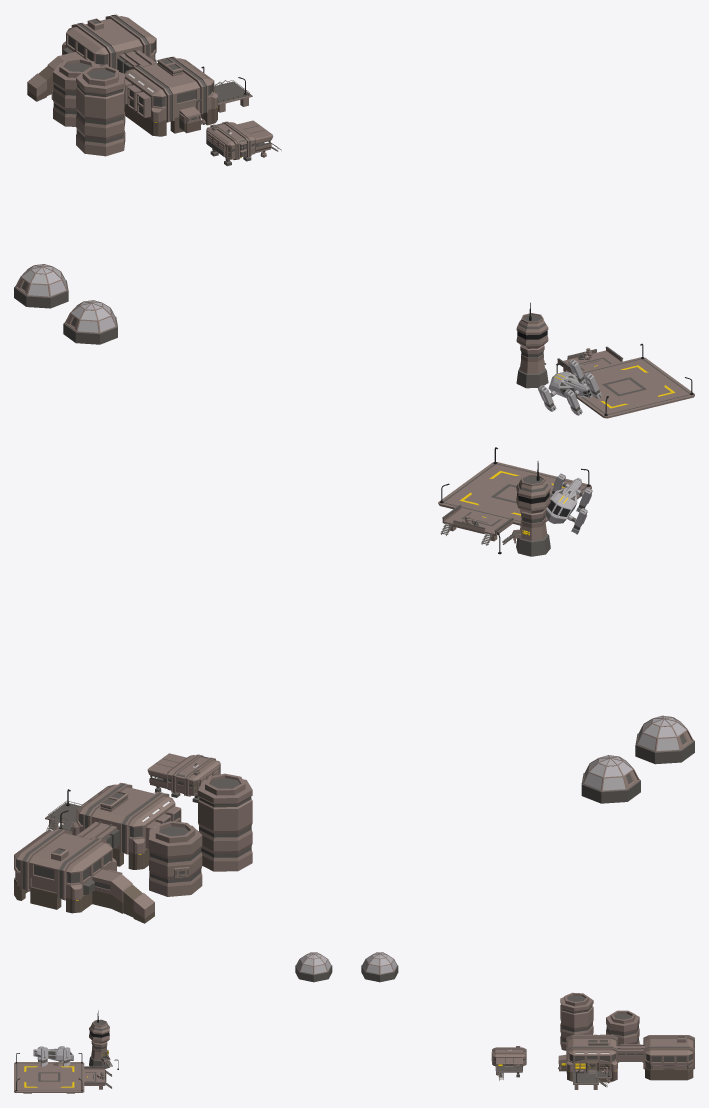
Rendered from scifi_buildings.gltf.
3 renders of one model, top to bottom at view 1: azimuth 30°, elevation 25°; view 2: azimuth 150°, elevation 25°; view 3: azimuth 270°, elevation 25°, orthographic. The views are drawn at different scales.
Parts seen in each view (by area): view 1: Building_Lab, LZ, Silo_Tall_Lab, Building_Dorm, Tower_LZ, Dome_1, Dome_2, Pod_LZ, Silo_Small_Lab; view 2: Building_Lab, Silo_Tall_Lab, LZ, Silo_Small_Lab, Tower_LZ, Dome_1, Dome_2, Building_Dorm, Pod_LZ; view 3: Building_Lab, LZ, Silo_Tall_Lab, Silo_Small_Lab, Dome_2, Dome_1, Tower_LZ, Building_Dorm, Pod_LZ.
Boxes of the visible parts, x1=… form: Building_Lab: x1=27, y1=14, x2=252, y2=136; LZ: x1=557, y1=346, x2=694, y2=418; Silo_Tall_Lab: x1=76, y1=66, x2=125, y2=156; Building_Dorm: x1=206, y1=120, x2=273, y2=166; Tower_LZ: x1=516, y1=302, x2=548, y2=388; Dome_1: x1=63, y1=300, x2=117, y2=344; Dome_2: x1=14, y1=264, x2=68, y2=308; Pod_LZ: x1=538, y1=359, x2=601, y2=415; Silo_Small_Lab: x1=51, y1=58, x2=99, y2=126; Building_Lab: x1=14, y1=782, x2=181, y2=923; Silo_Tall_Lab: x1=198, y1=773, x2=252, y2=871; LZ: x1=438, y1=462, x2=591, y2=541; Silo_Small_Lab: x1=149, y1=821, x2=202, y2=896; Tower_LZ: x1=512, y1=461, x2=550, y2=556; Dome_1: x1=635, y1=715, x2=694, y2=764; Dome_2: x1=581, y1=755, x2=640, y2=803; Building_Dorm: x1=147, y1=753, x2=220, y2=802; Pod_LZ: x1=545, y1=473, x2=592, y2=534; Building_Lab: x1=558, y1=1034, x2=694, y2=1089; LZ: x1=14, y1=1062, x2=106, y2=1093; Silo_Tall_Lab: x1=560, y1=992, x2=593, y2=1050; Silo_Small_Lab: x1=606, y1=1010, x2=639, y2=1044; Dome_2: x1=361, y1=952, x2=398, y2=982; Dome_1: x1=295, y1=952, x2=332, y2=982; Tower_LZ: x1=89, y1=1010, x2=110, y2=1068; Building_Dorm: x1=491, y1=1046, x2=526, y2=1077; Pod_LZ: x1=33, y1=1046, x2=73, y2=1066.
Size of the model in its own units: 28.19 by 6.11 by 61.82.
